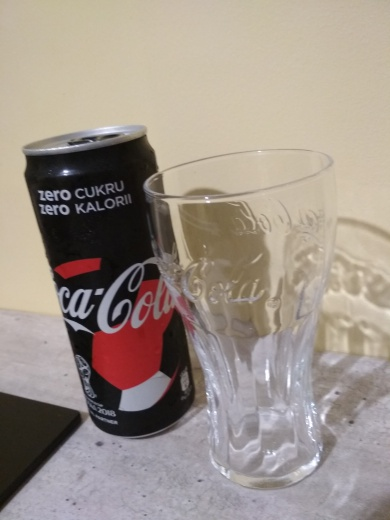colazero: (16, 116, 208, 437)
